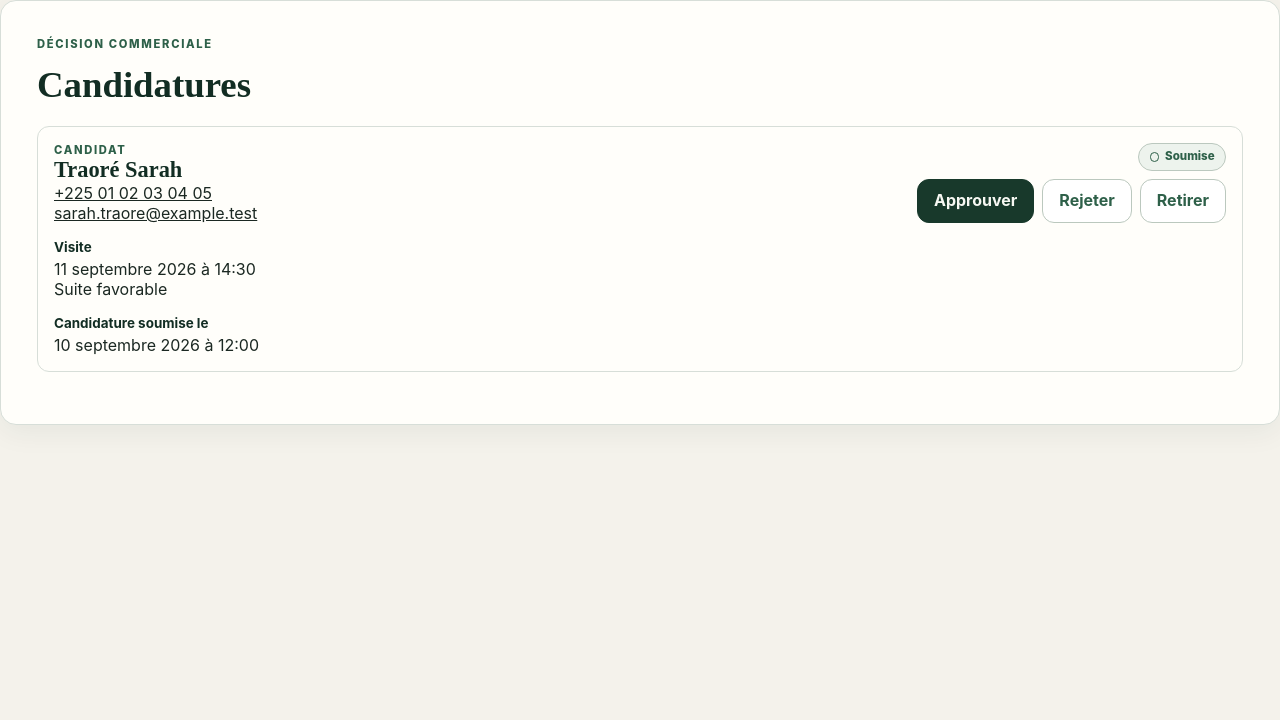
Candidatures › keeps loaded applications after failure
The width and height of the screenshot is (1280, 720).
What coordinates should you click on to do the following:
click the button "Approuver"
I would click on:
 (976, 201)
Its box is [917,179,1034,223].
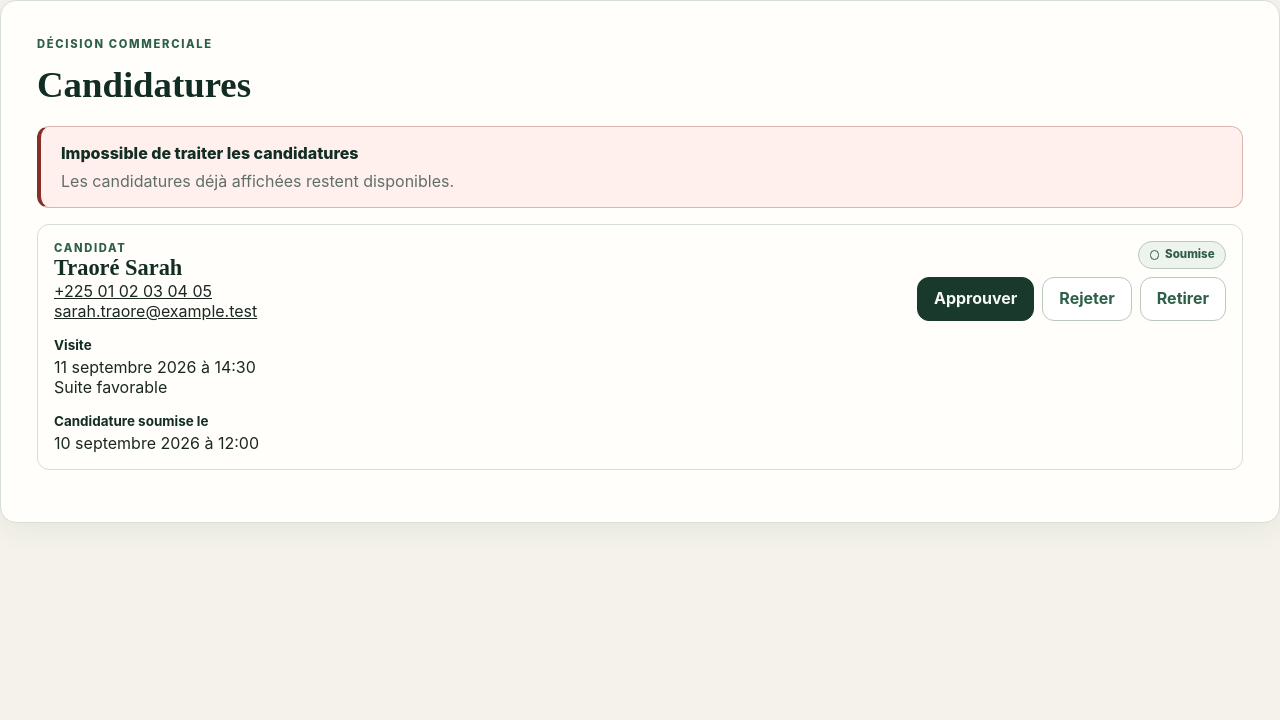
Expected: the text "Soumise" is shown, [1138,241,1226,269]
Expected: the heading "Impossible de traiter les candidatures" is shown, [61,143,358,163]
